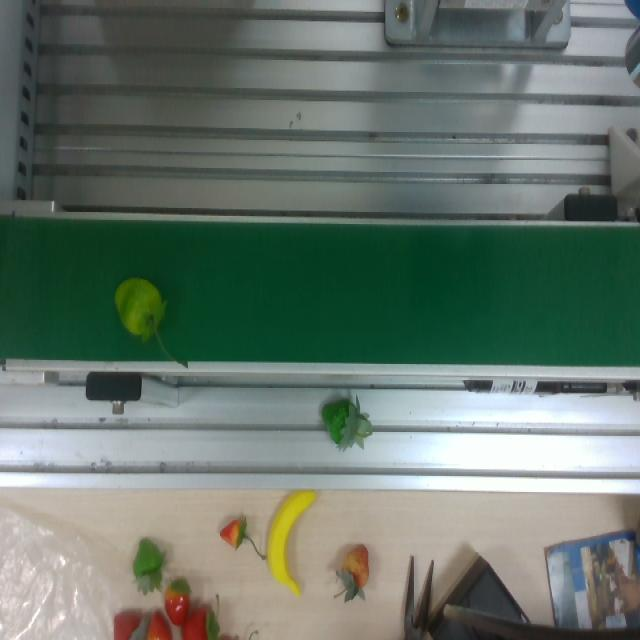Small Unripe Strawberry: (106, 272, 187, 350)
conveyor: (0, 212, 639, 376)
